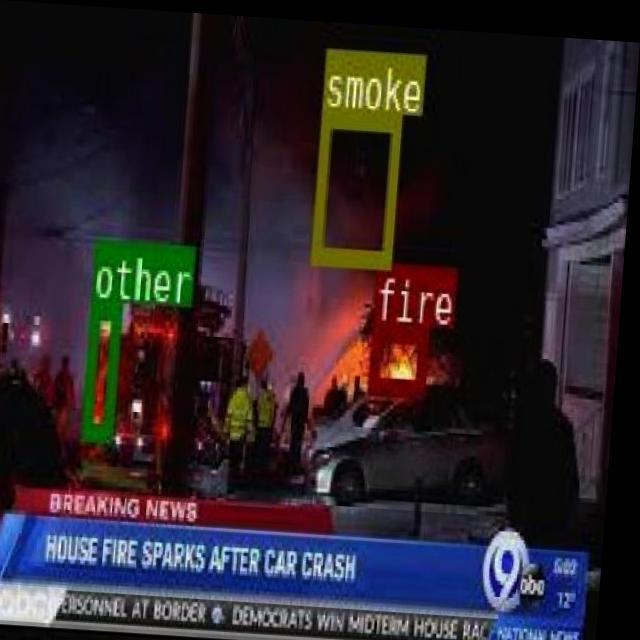Fire: (356, 298, 450, 394)
Smoke: (265, 15, 573, 347)
